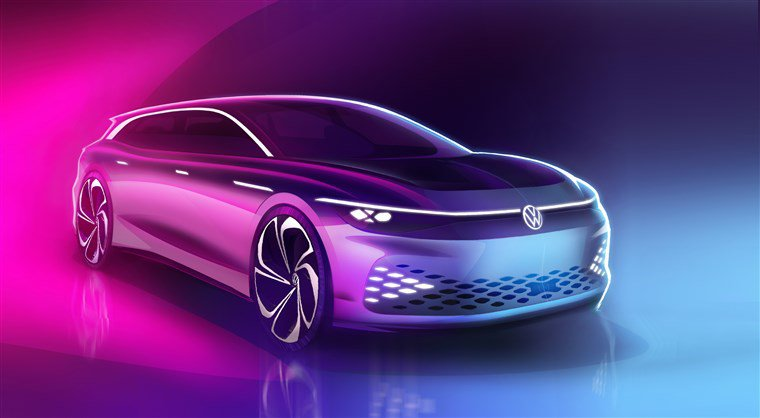car: (69, 92, 614, 342)
